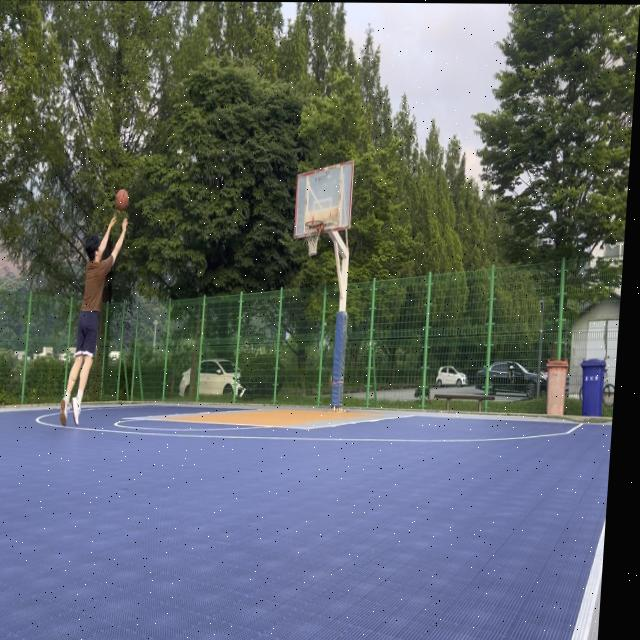basketball: (114, 188, 130, 212)
hoop: (303, 219, 324, 258)
